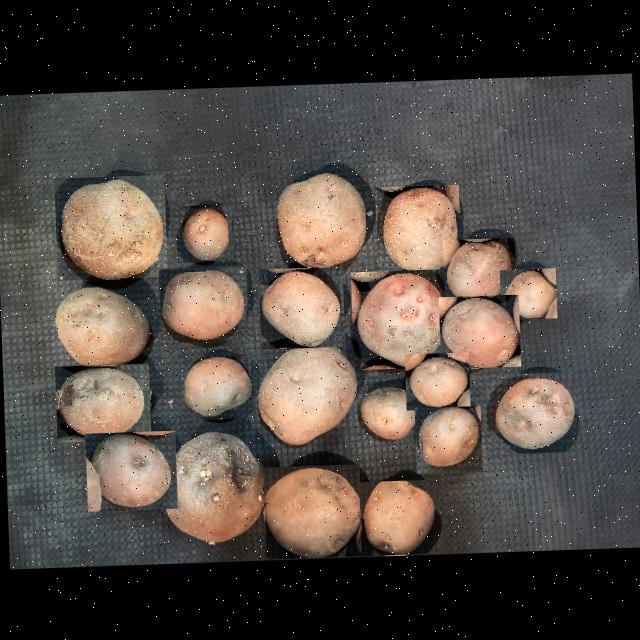Diseased-fungal potato: (158, 428, 270, 550), (52, 173, 166, 280), (254, 342, 360, 446), (268, 168, 371, 266), (350, 268, 450, 368), (44, 278, 154, 368), (262, 463, 361, 558), (374, 183, 461, 276), (53, 362, 150, 441), (488, 370, 579, 453), (84, 429, 176, 510), (257, 265, 344, 348), (157, 264, 248, 342), (358, 478, 442, 555), (438, 293, 520, 368), (176, 354, 252, 420), (442, 237, 516, 300), (413, 404, 481, 472), (354, 380, 422, 443), (403, 351, 469, 409), (174, 203, 232, 261), (498, 267, 556, 319)
